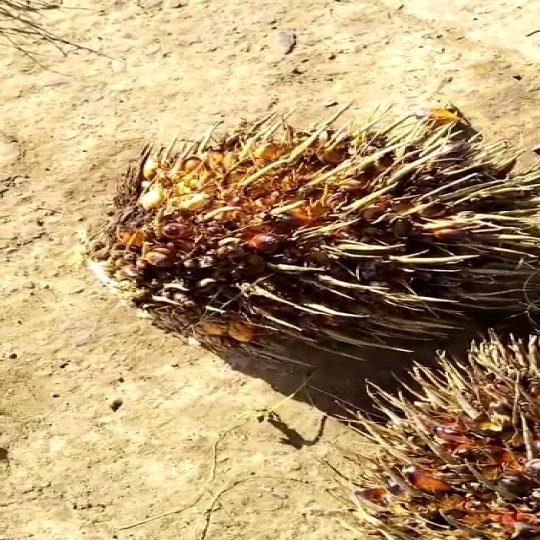terlalu masak: (65, 107, 540, 392)
